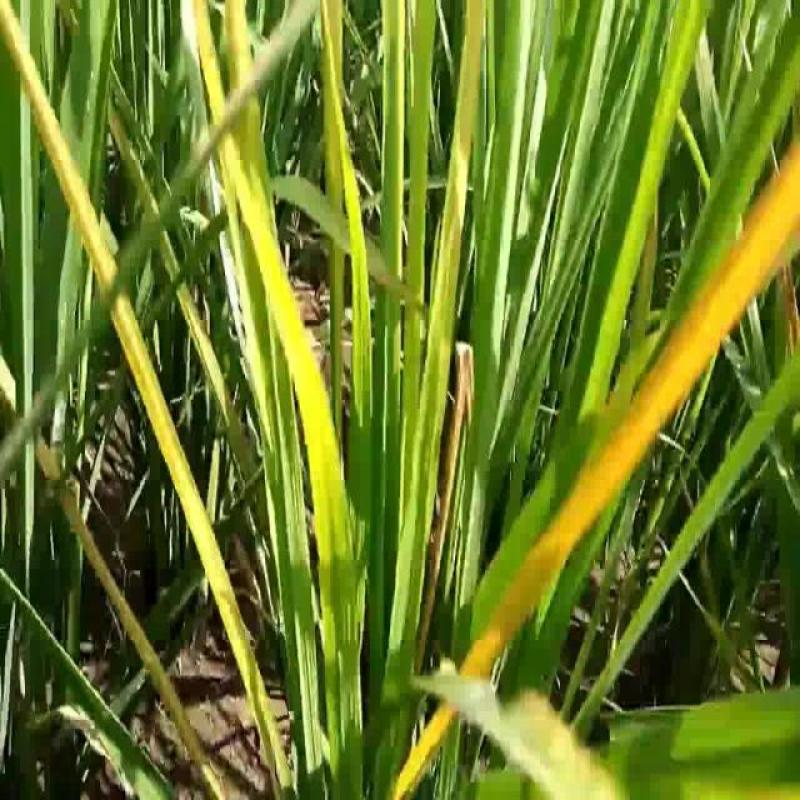Rice Tungro: (1, 2, 268, 722), (496, 121, 800, 684), (193, 1, 348, 539), (403, 3, 488, 495)
